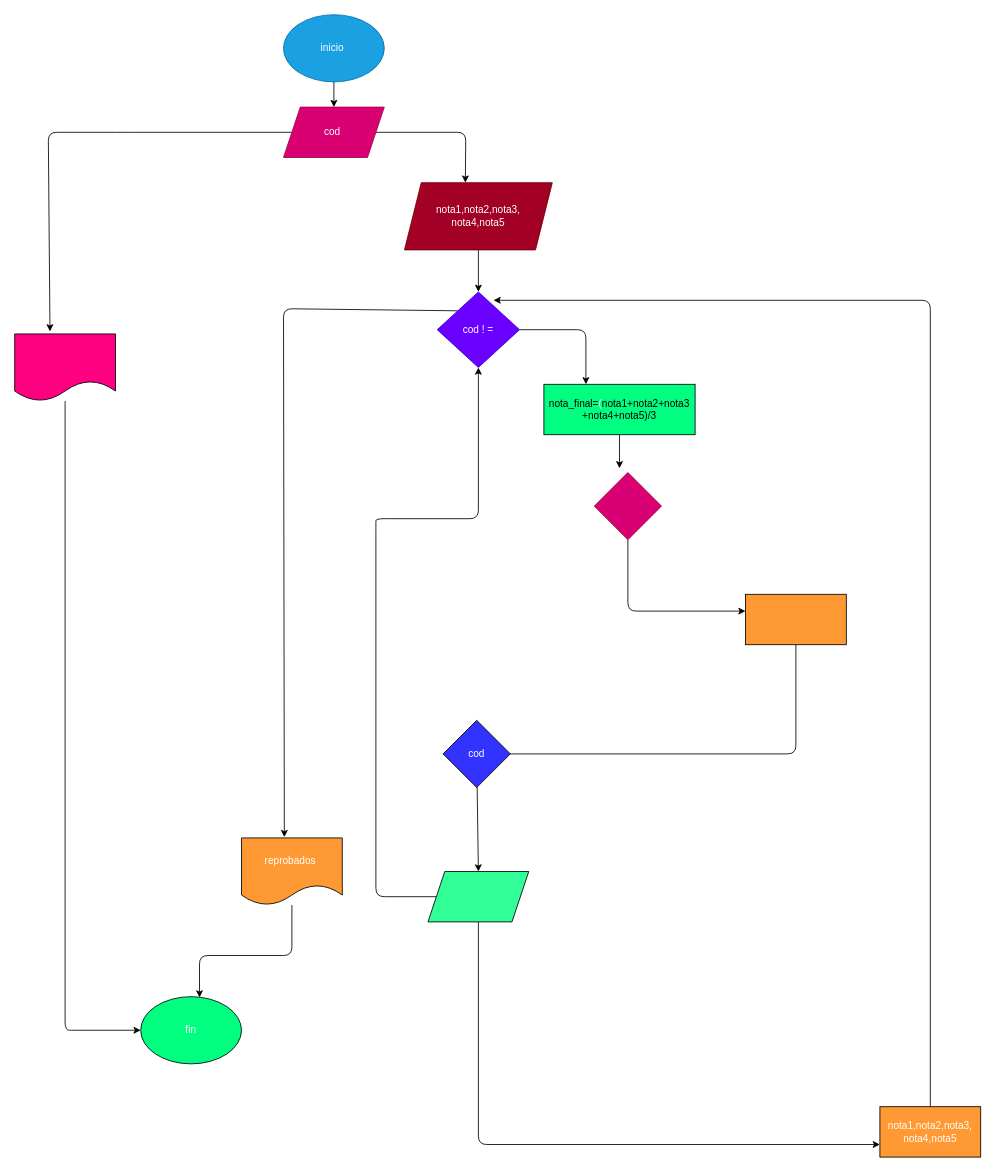
Some shapes in this 995 by 1172 pixel diagram are drawn without their labels. The shapes that lost their labels are listed below. From the top down, each one's centre as x and y in pixels, then its label:
At (x=65, y=367): "fin de la entrada".
At (x=627, y=506): "nota_fina".
At (x=795, y=619): "reprobados= reprobados +1".
At (x=478, y=896): "cod ! =0".
